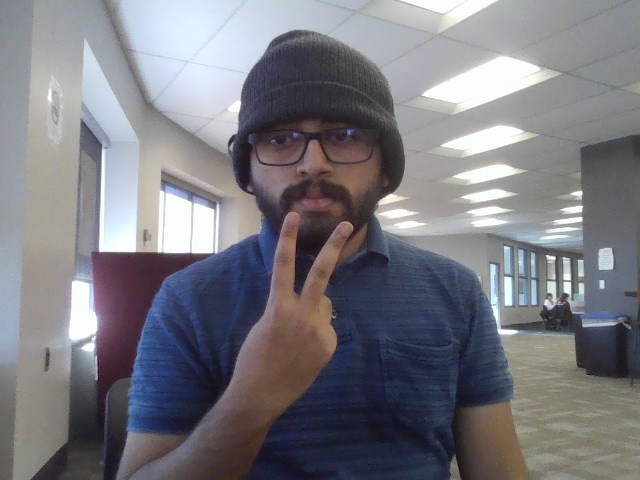start: (228, 209, 367, 419)
